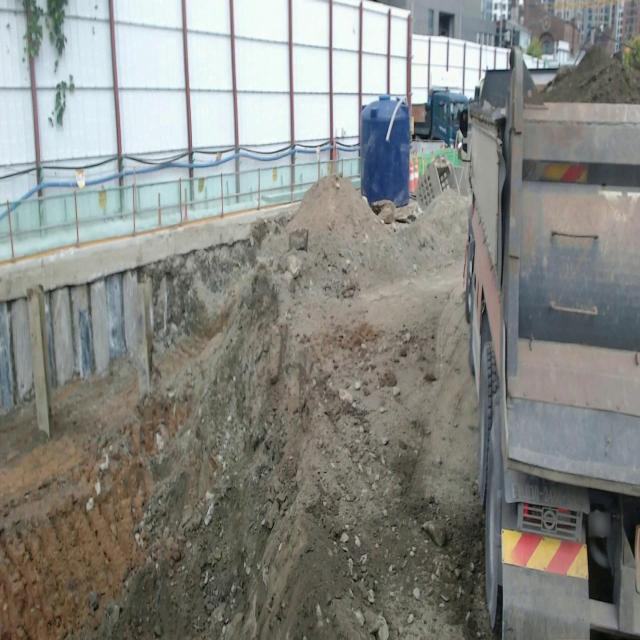red-sand: (0, 179, 494, 639), (541, 46, 640, 104)
